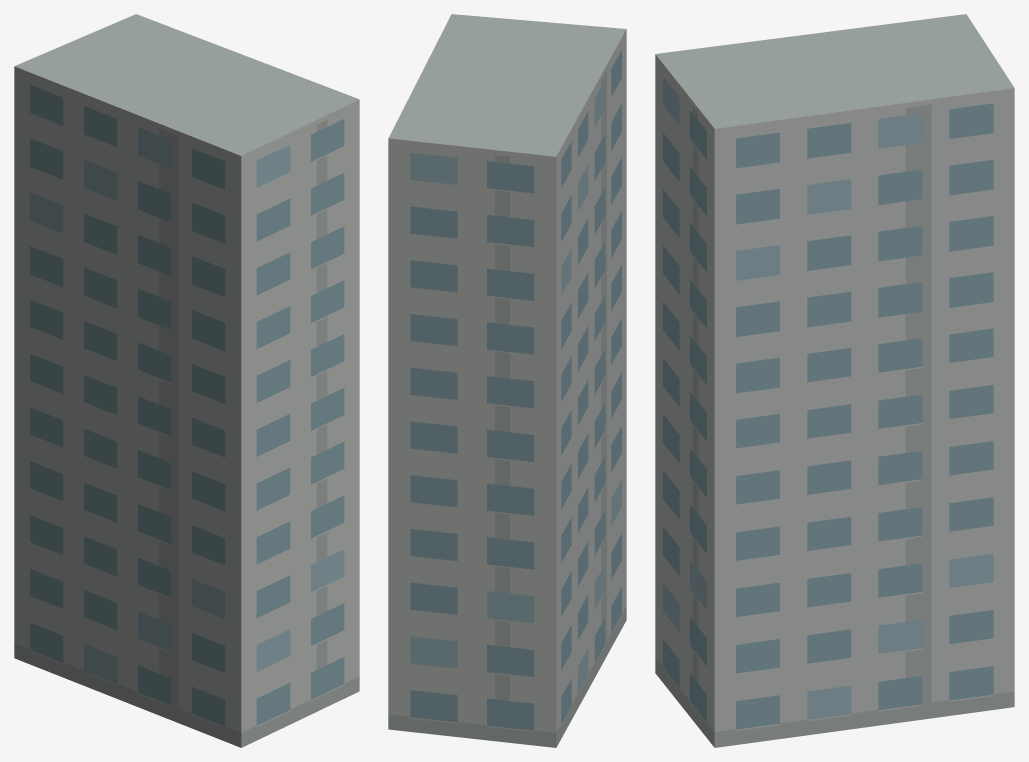
File: survey-upis-33036224.glb
3 views of the same model, side by side, from view 1: azimuth 30°, elevation 25°; view 2: azimuth 150°, elevation 25°; view 3: azimuth 270°, elevation 25° (orthographic). The views are drawn at different scales.
Visible parts, largest first — view 1: survey-upis-33036224.tmp; view 2: survey-upis-33036224.tmp; view 3: survey-upis-33036224.tmp.
Part boxes in pixels (x1,y1,x2,y2): survey-upis-33036224.tmp: (14, 14, 359, 747); survey-upis-33036224.tmp: (388, 14, 626, 747); survey-upis-33036224.tmp: (655, 14, 1014, 747).
Size of the model in its own units: 11.91 by 29.9 by 15.74.
